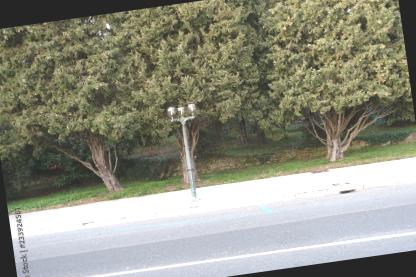tree: (0, 8, 163, 207), (122, 0, 276, 191), (255, 0, 416, 170)
